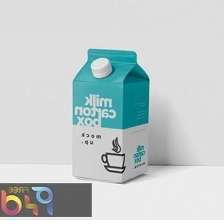carton: (67, 46, 152, 187)
